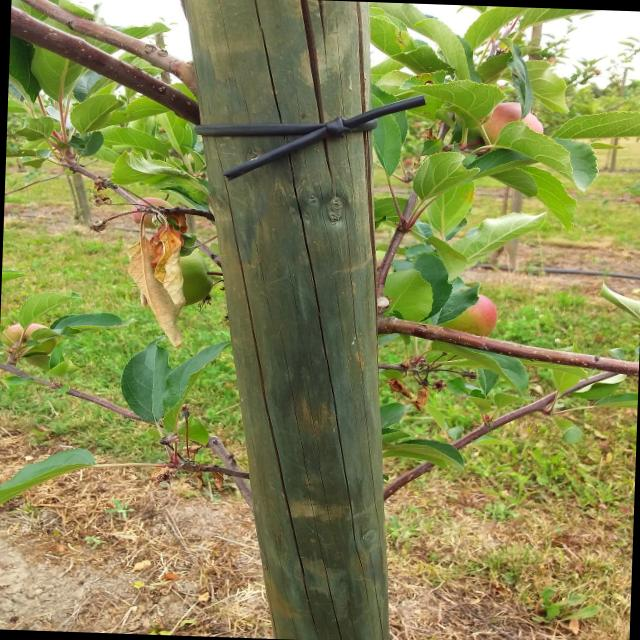-FireBlight-: (94, 195, 190, 322)
